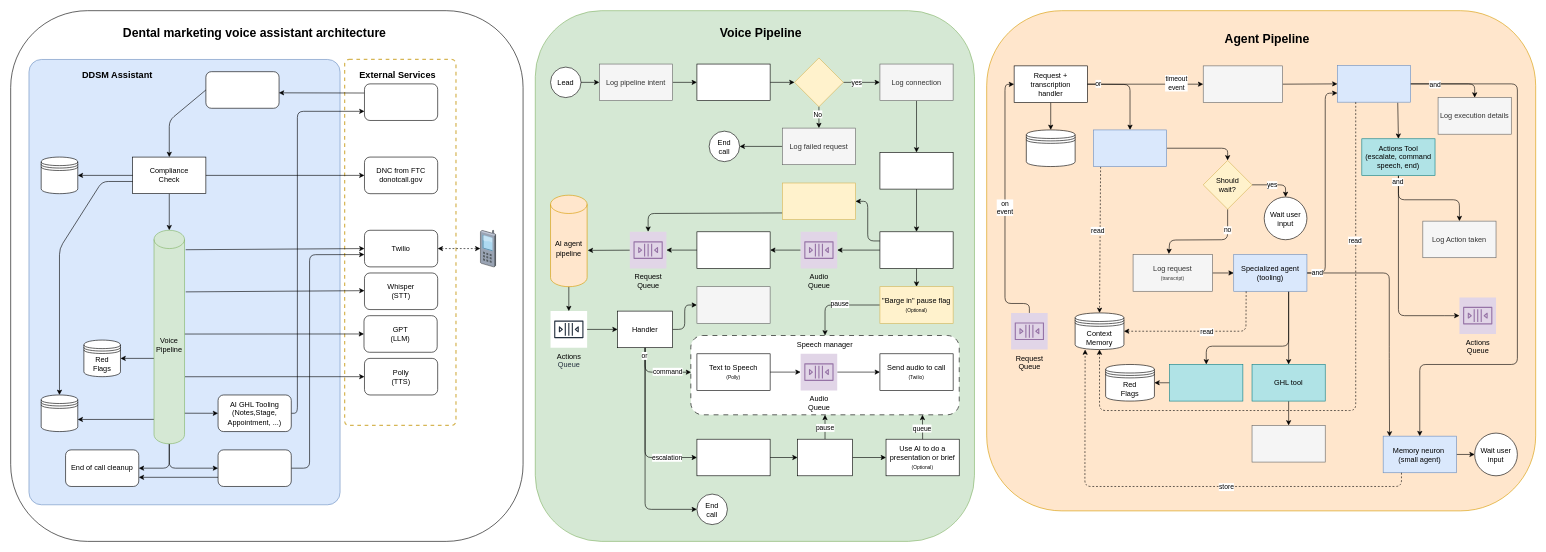
The diagram is 1546 pixels wide and 552 high, and some of its shapes have lost their labels. Each missing label, with the centre of its shape:
"Call/Conference transfer (Twilio)" belongs at pixel 733 457.
"Conversation Buffer" belongs at pixel 1050 148.
"DNC/DND" belongs at pixel 59 175.
"Event Log" belongs at pixel 59 413.
"GoHighLevel" belongs at pixel 401 101.
"Human Escalation" belongs at pixel 254 467.
"Lead Answers" belongs at pixel 818 82.
"Log action" belongs at pixel 733 304.
"Log conversation timeout" belongs at pixel 1243 83.
"Log tool usage" belongs at pixel 1288 443.
"Next action ( agent)" belongs at pixel 1374 83.
"Pause any ongoing speech on connection" belongs at pixel 824 457.
"Predefined/Dynamic greeting (AI agent + Speech manager)*" belongs at pixel 916 170.
"Red flag tool" belongs at pixel 1206 382.
"Request call (Twilio)" belongs at pixel 733 82.
"Sentence completion (small agent )" belongs at pixel 1130 148.
"Silence timeout (Optional)" belongs at pixel 819 201.
"Speech to Text (Whisper)" belongs at pixel 733 249.
"VAD/Silence detection" belongs at pixel 916 249.
"WebHook" belongs at pixel 242 89.
